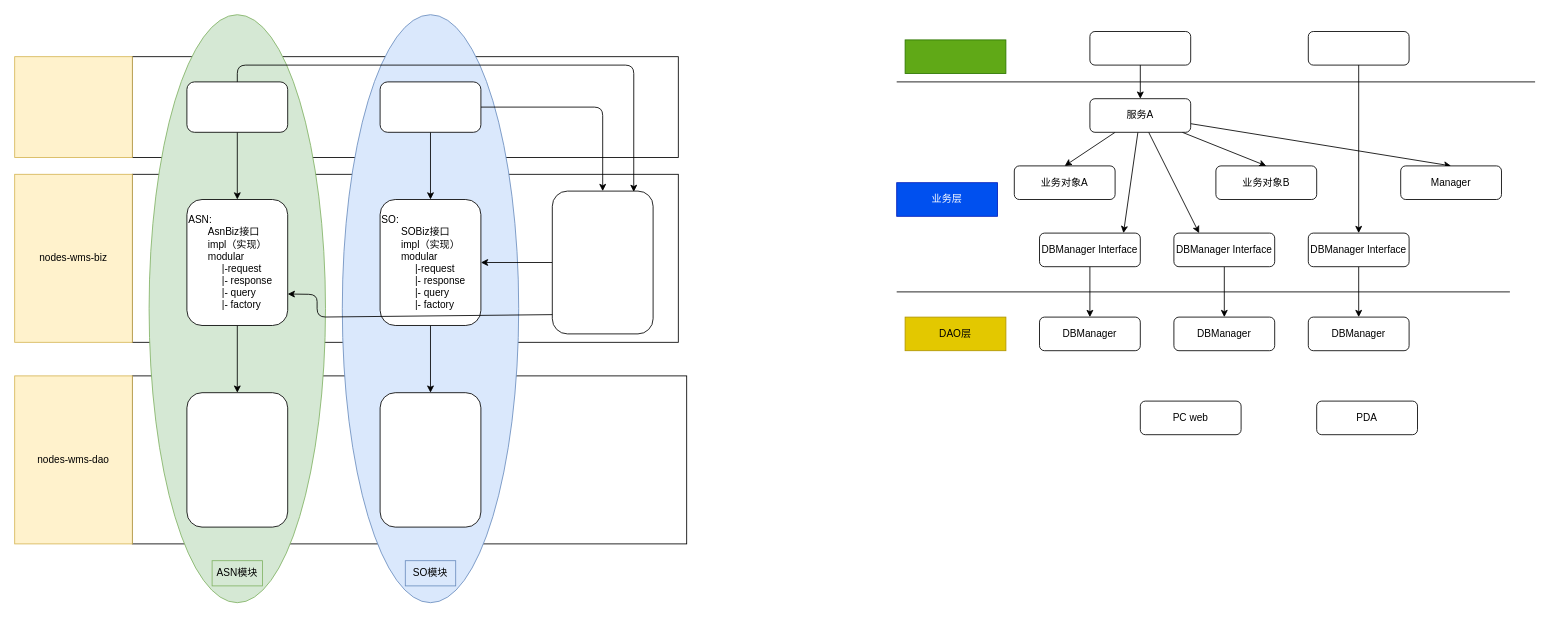
Some shapes in this 1551 by 617 pixel diagram are drawn without their labels. Here are the shapes that lost their labels. From the top down, the box of each, then its label:
(904, 39, 1006, 74): web网络请求层
(1089, 31, 1191, 65): 写请求
(1307, 31, 1409, 65): 读请求
(14, 56, 132, 158): nodes-wms
(186, 81, 288, 132): ASN: AsnController
(379, 81, 481, 132): SO: SOController
(551, 190, 653, 334): applicationService: ASNSOBiz实现
(186, 392, 288, 527): ASN: ASNDao 接口 impl（实现） entry |- AsnHeader |- AsnDetail mapper（存放mybaits ORM相关）
(379, 392, 481, 527): SO: SODao 接口 impl（实现） entry |- SOHeader |- SODetail mapper（存放mybaits ORM相关）
